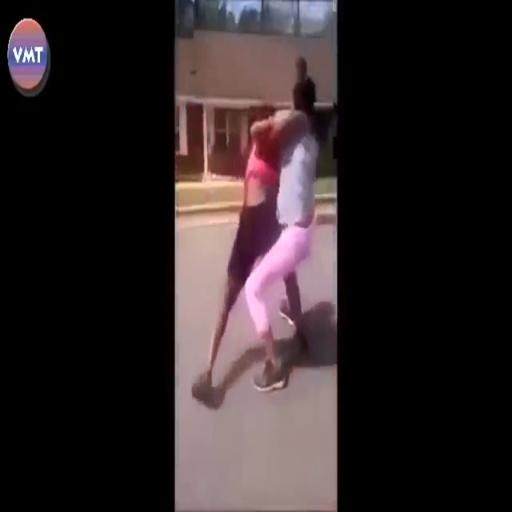violencia: (185, 38, 330, 418)
